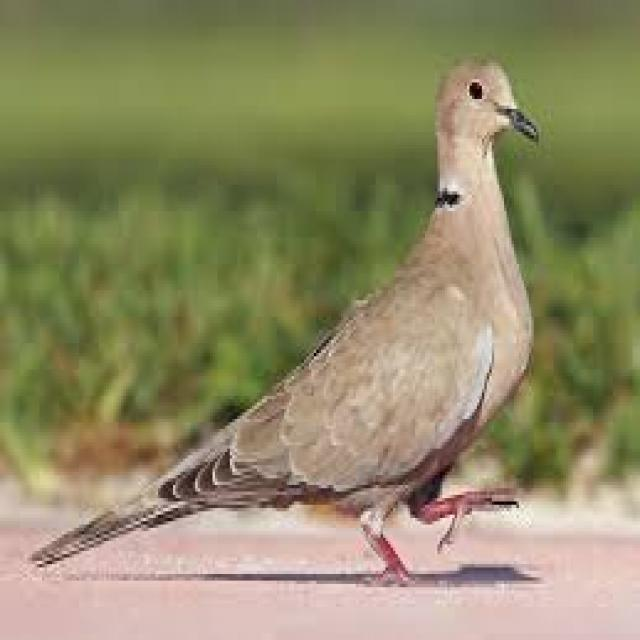bird: (24, 51, 552, 590)
